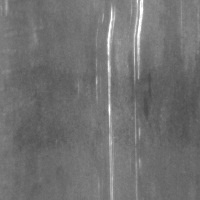scratches: (104, 2, 122, 199), (130, 1, 149, 82)
